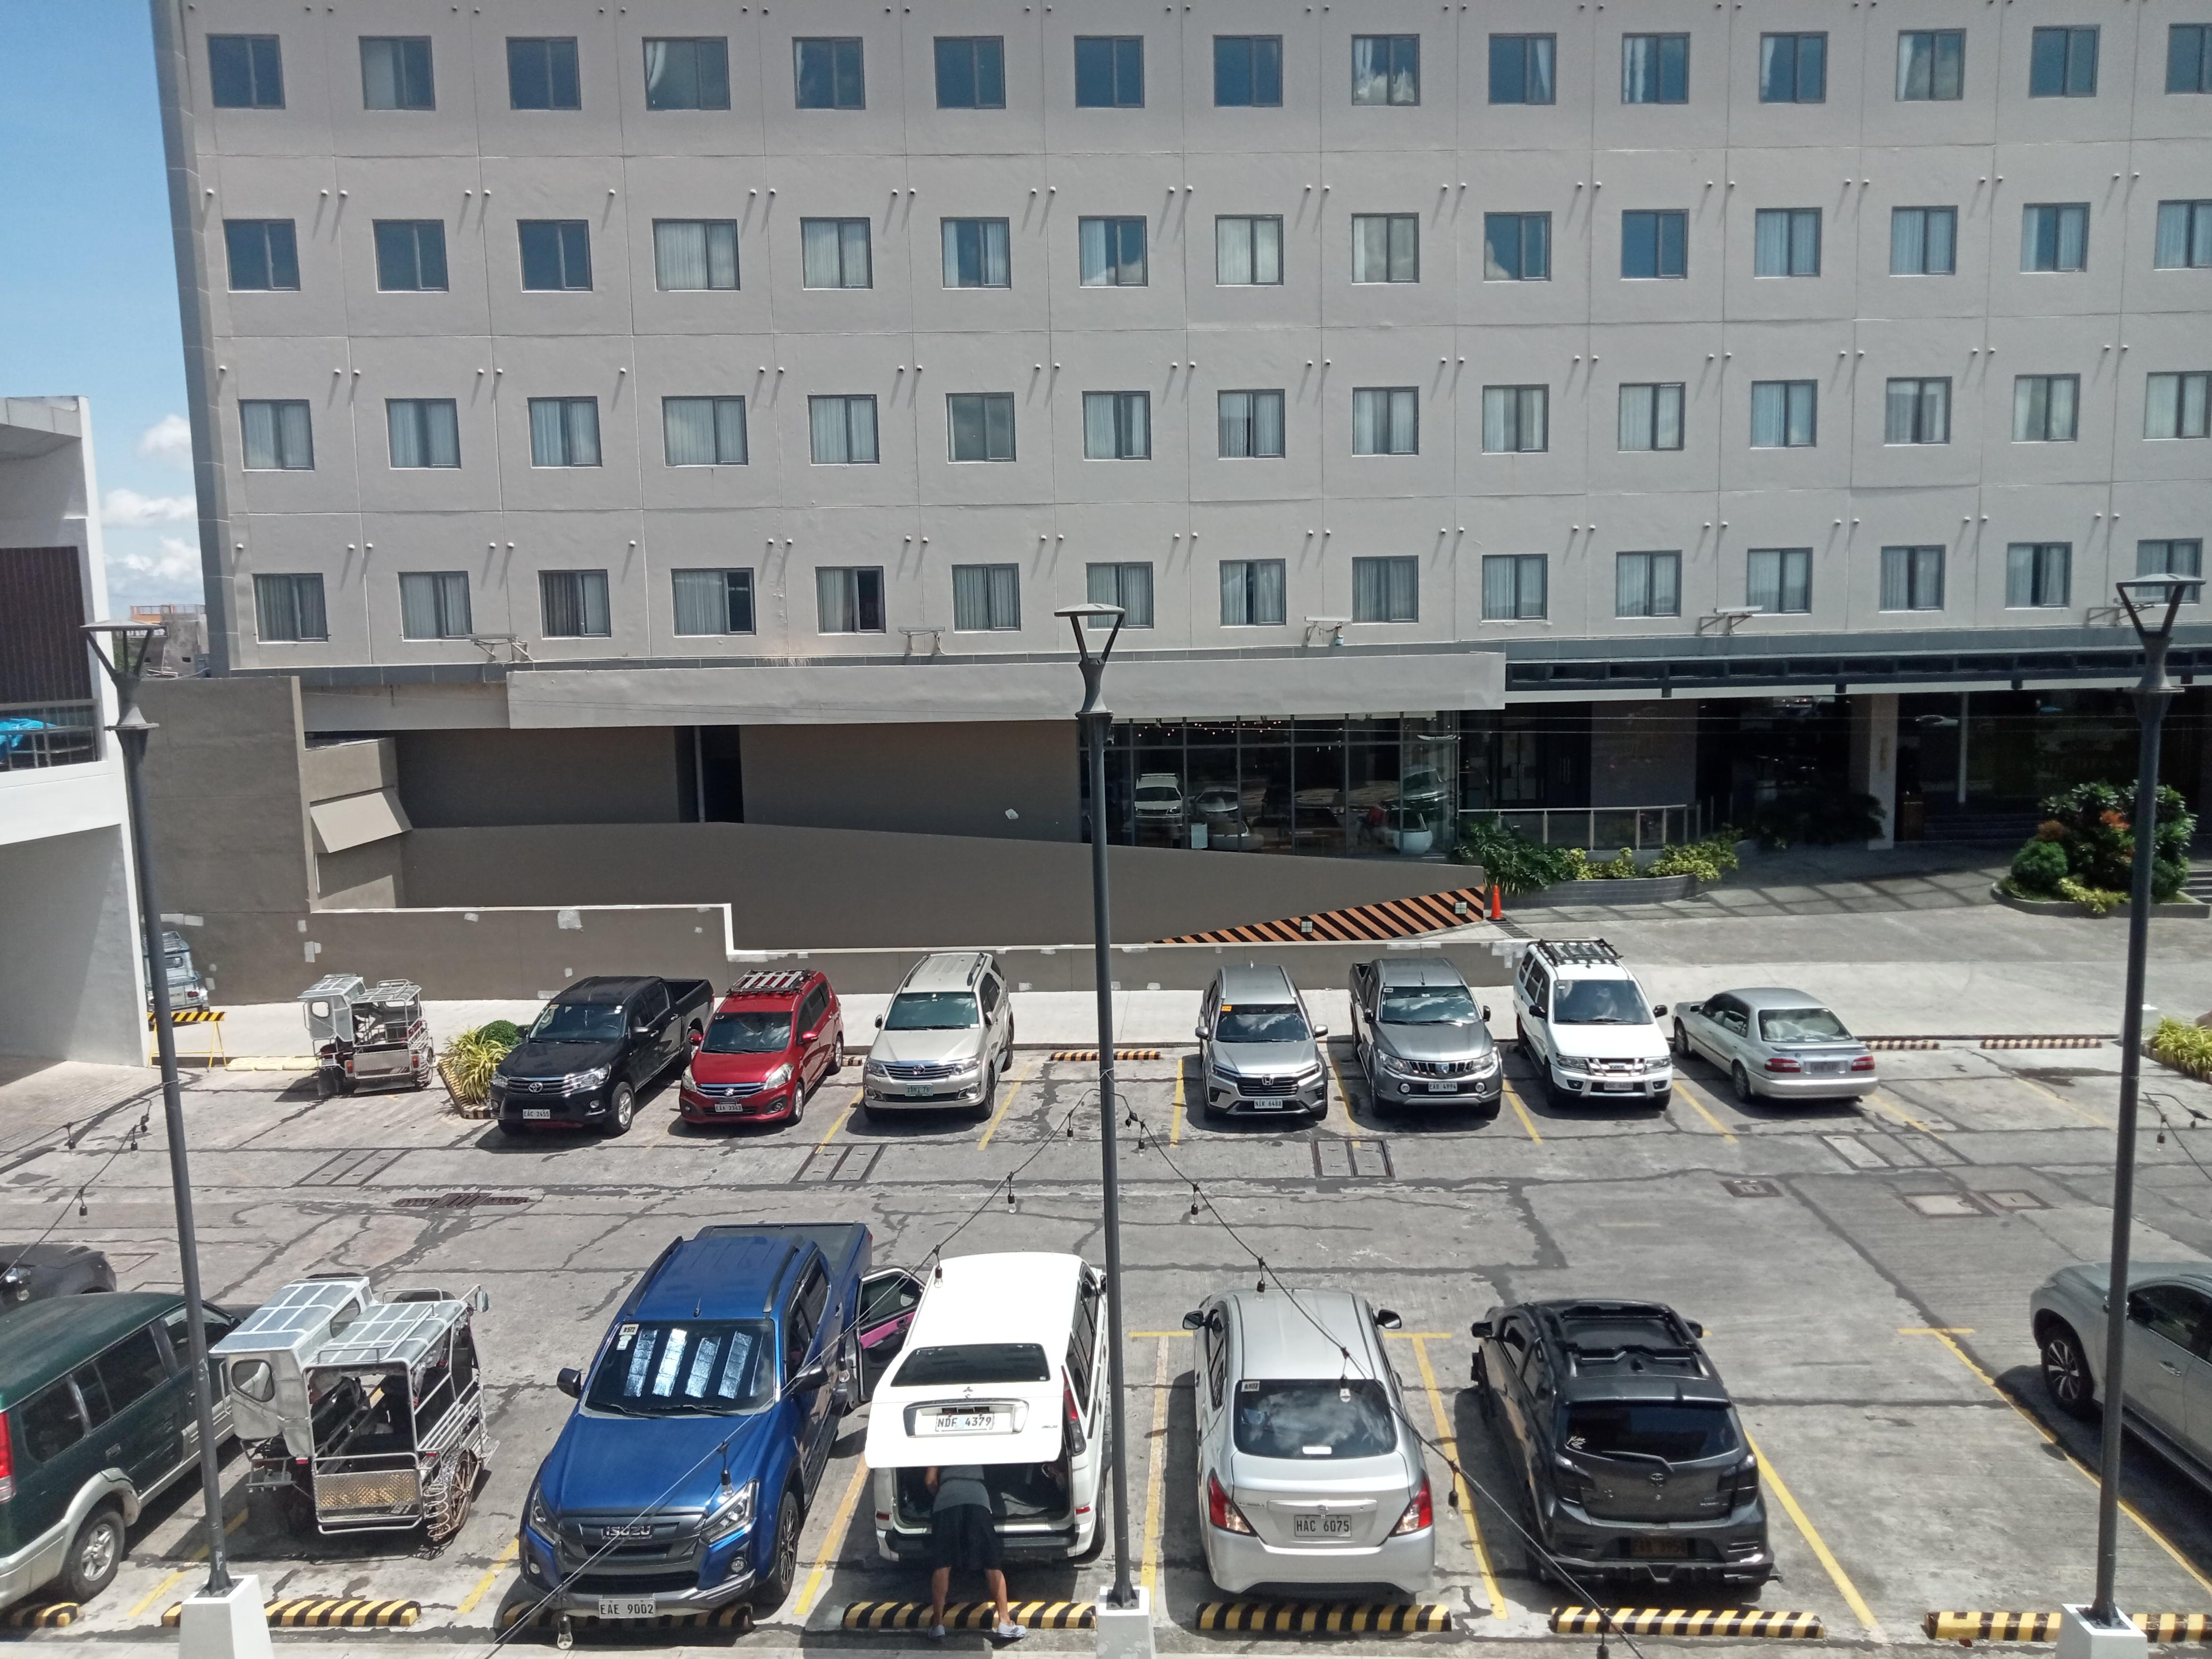occupied: (437, 1324, 927, 1640), (1407, 1331, 1883, 1636), (105, 1371, 627, 1629), (1137, 1331, 1517, 1636), (779, 1324, 1134, 1636), (1620, 1035, 1940, 1143), (1472, 1039, 1740, 1147), (1322, 1037, 1547, 1147), (812, 1047, 1040, 1154), (1170, 1037, 1359, 1148)
vacant: (1677, 1328, 2212, 1645), (1796, 1035, 2107, 1141), (634, 1049, 902, 1157), (977, 1047, 1190, 1150)
